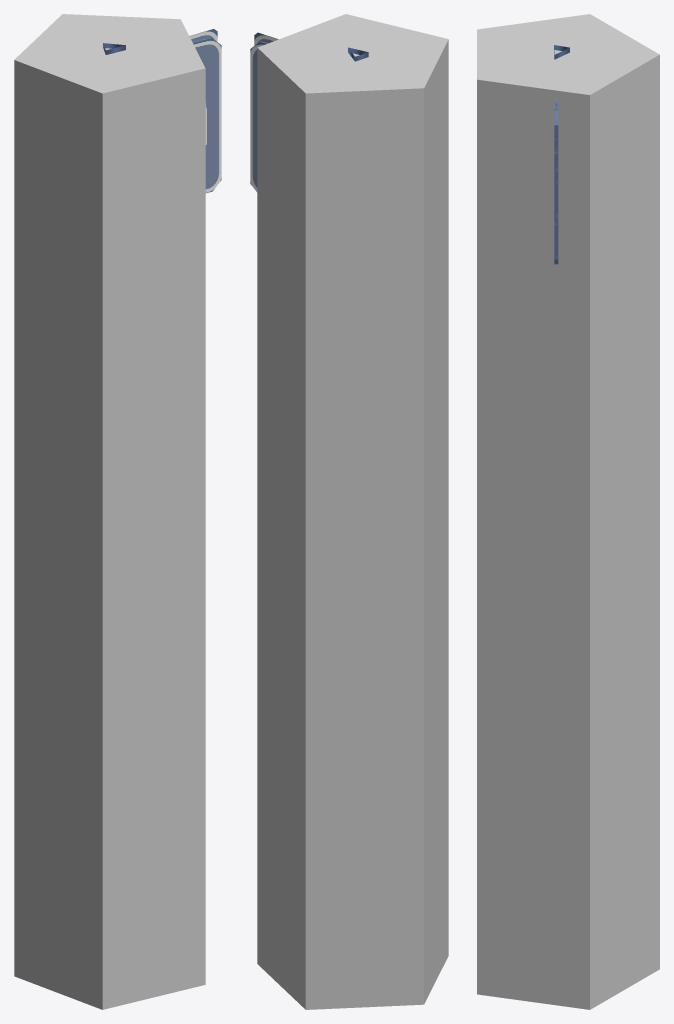
The model's file is bussign.dae.
3 renders of one model, left to right at view 1: azimuth 30°, elevation 25°; view 2: azimuth 150°, elevation 25°; view 3: azimuth 270°, elevation 25°, orthographic.
Visible parts, largest first — view 1: Colmesh-1, bussign_a200; view 2: Colmesh-1, bussign_a200; view 3: Colmesh-1, bussign_a200.
Boxes of the visible parts, x1=… form: Colmesh-1: x1=14, y1=14, x2=205, y2=1009; bussign_a200: x1=192, y1=37, x2=221, y2=193; Colmesh-1: x1=257, y1=14, x2=448, y2=1009; bussign_a200: x1=250, y1=41, x2=268, y2=192; Colmesh-1: x1=477, y1=14, x2=659, y2=1009; bussign_a200: x1=554, y1=99, x2=558, y2=264.
Bounding box in the file's own units: 0.8613 × 0.7193 × 4.
